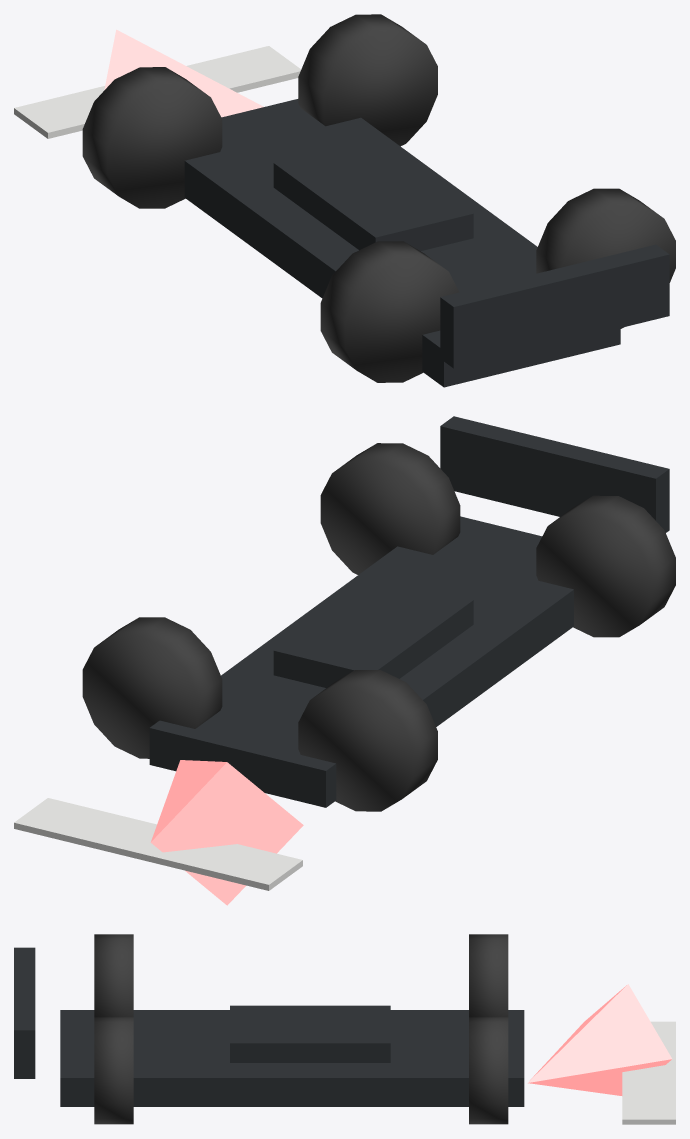
File: car.glb
3 views of the same model, one above another, from view 1: azimuth 30°, elevation 25°; view 2: azimuth 150°, elevation 25°; view 3: azimuth 270°, elevation 25° (orthographic). The views are drawn at different scales.
Parts seen in each view (by area): view 1: CarBody, RearWing, WheelFL, Cockpit, WheelRL, WheelFR, WheelRR, FrontWing, Nose; view 2: CarBody, RearWing, WheelRL, WheelFL, WheelFR, Cockpit, WheelRR, Nose, FrontWing; view 3: CarBody, Cockpit, Nose, WheelRR, WheelFR, FrontWing, WheelRL, WheelFL, RearWing.
Part boxes in pixels (bbox=[...]): CarBody: bbox=[184, 99, 620, 387]; RearWing: bbox=[440, 244, 669, 368]; WheelFL: bbox=[82, 67, 222, 208]; Cockpit: bbox=[273, 139, 473, 251]; WheelRL: bbox=[320, 241, 459, 382]; WheelFR: bbox=[298, 14, 437, 146]; WheelRR: bbox=[536, 188, 675, 328]; FrontWing: bbox=[14, 46, 301, 138]; Nose: bbox=[104, 29, 263, 117]; CarBody: bbox=[149, 516, 573, 807]; RearWing: bbox=[440, 416, 669, 532]; WheelRL: bbox=[536, 495, 675, 637]; WheelFL: bbox=[298, 670, 437, 811]; WheelFR: bbox=[82, 617, 222, 758]; Cockpit: bbox=[273, 576, 473, 687]; WheelRR: bbox=[320, 443, 460, 574]; Nose: bbox=[150, 760, 303, 905]; FrontWing: bbox=[14, 798, 302, 890]; CarBody: bbox=[60, 1010, 524, 1106]; Cockpit: bbox=[230, 1005, 390, 1062]; Nose: bbox=[528, 984, 671, 1095]; WheelRR: bbox=[94, 1017, 133, 1124]; WheelFR: bbox=[469, 1017, 508, 1124]; FrontWing: bbox=[622, 1021, 675, 1124]; WheelRL: bbox=[94, 934, 133, 1017]; WheelFL: bbox=[469, 934, 508, 1017]; RearWing: bbox=[14, 947, 35, 1078].
Bounding box in the file's own units: 1.68 × 0.85 × 3.71.
